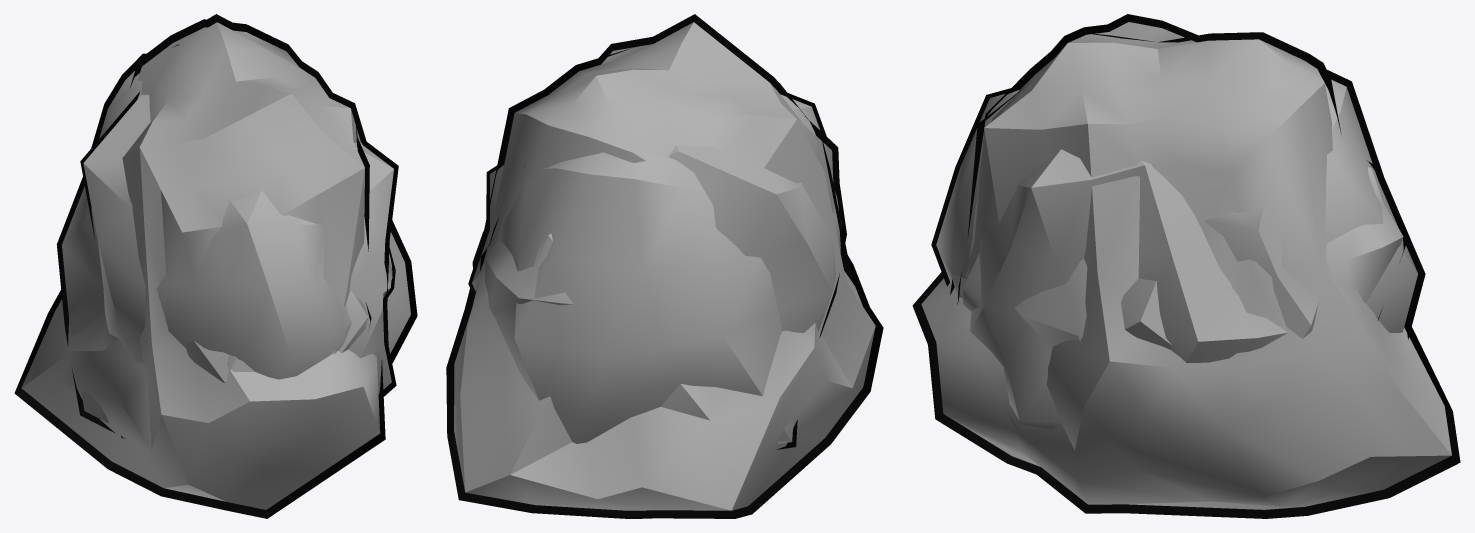
File: Stones.fbx
3 views of the same model, side by side, from view 1: azimuth 30°, elevation 25°; view 2: azimuth 150°, elevation 25°; view 3: azimuth 270°, elevation 25° (orthographic). The views are drawn at different scales.
Parts seen in each view (by area): view 1: Stone2, Stone3, Stone1, Stone4; view 2: Stone2, Stone1, Stone3, Stone4; view 3: Stone2, Stone1, Stone3, Stone4.
Part boxes in pixels (box(x1,y1,x2,y2)): Stone2: box(14, 14, 417, 518); Stone3: box(80, 91, 395, 379); Stone1: box(56, 44, 398, 433); Stone4: box(121, 291, 371, 438); Stone2: box(446, 14, 883, 518); Stone1: box(472, 152, 797, 449); Stone3: box(468, 88, 846, 337); Stone4: box(480, 233, 849, 316); Stone2: box(912, 14, 1460, 518); Stone1: box(970, 47, 1425, 430); Stone3: box(931, 84, 1319, 346); Stone4: box(957, 160, 1409, 349).
Size of the model in its own units: 1922 by 2648 by 2640.
